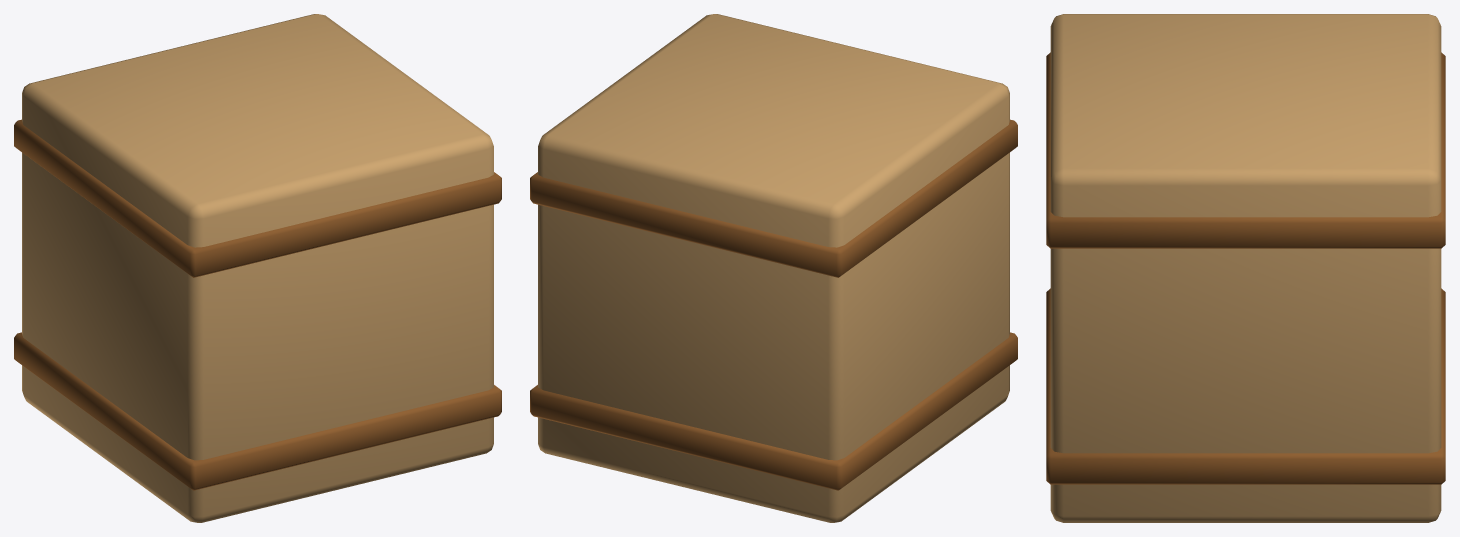
The model's file is crate.glb.
The picture shows the model from 3 angles, left to right: view 1: azimuth 30°, elevation 25°; view 2: azimuth 150°, elevation 25°; view 3: azimuth 270°, elevation 25°; orthographic projection. The views are drawn at different scales.
Visible parts, largest first — view 1: Crate, Band.001, Band; view 2: Crate, Band.001, Band; view 3: Crate, Band, Band.001.
Part boxes in pixels (x1=…): Crate: x1=22, y1=14, x2=493, y2=522; Band.001: x1=14, y1=119, x2=501, y2=277; Band: x1=14, y1=332, x2=501, y2=490; Crate: x1=538, y1=14, x2=1009, y2=522; Band.001: x1=530, y1=119, x2=1017, y2=277; Band: x1=530, y1=332, x2=1017, y2=490; Crate: x1=1050, y1=14, x2=1441, y2=522; Band: x1=1046, y1=288, x2=1445, y2=484; Band.001: x1=1046, y1=52, x2=1445, y2=248.
Bounding box in the file's own units: 0.92 × 0.9 × 0.92.
